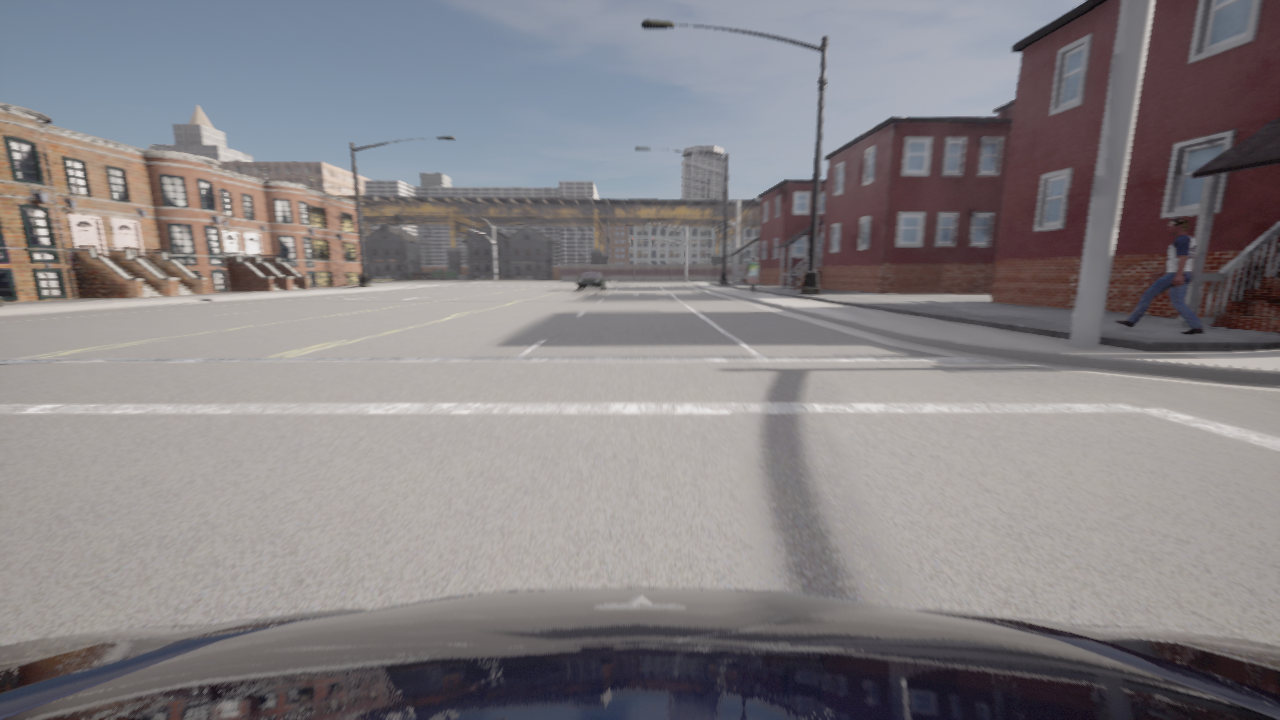cyclist: (0, 588, 1279, 719), (575, 272, 605, 290)
pedestrian: (1115, 218, 1203, 334), (746, 257, 759, 294)
